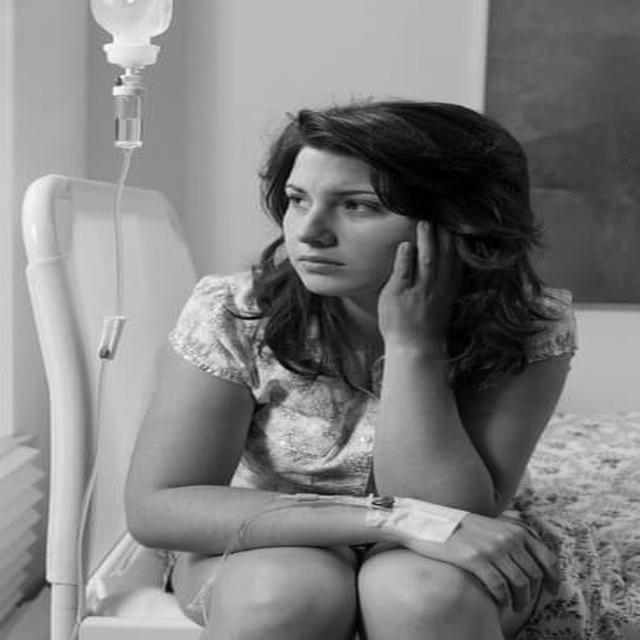Sadness: (282, 157, 391, 294)
